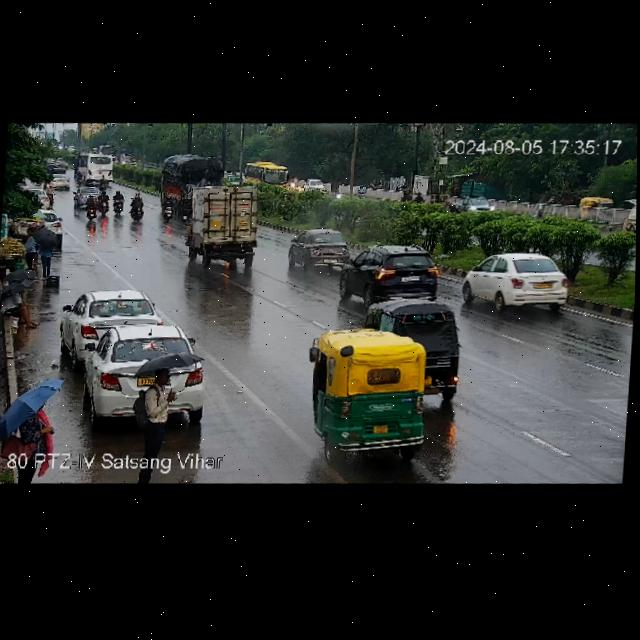bus: (246, 159, 292, 188), (74, 152, 116, 182)
car: (306, 311, 441, 466), (80, 320, 210, 425), (357, 294, 467, 405), (57, 287, 159, 373), (459, 246, 572, 317), (335, 241, 443, 310), (290, 226, 356, 275), (73, 183, 101, 212), (49, 171, 75, 191), (301, 176, 327, 196), (55, 157, 71, 169)
motorcycle: (127, 195, 149, 224), (97, 188, 114, 220), (161, 195, 179, 221), (86, 194, 98, 224), (112, 190, 125, 213), (355, 181, 369, 197), (97, 172, 108, 190)
person: (133, 350, 205, 453), (0, 373, 64, 452), (20, 223, 64, 279), (0, 283, 44, 333)
truck: (185, 179, 276, 272), (157, 152, 227, 217)
